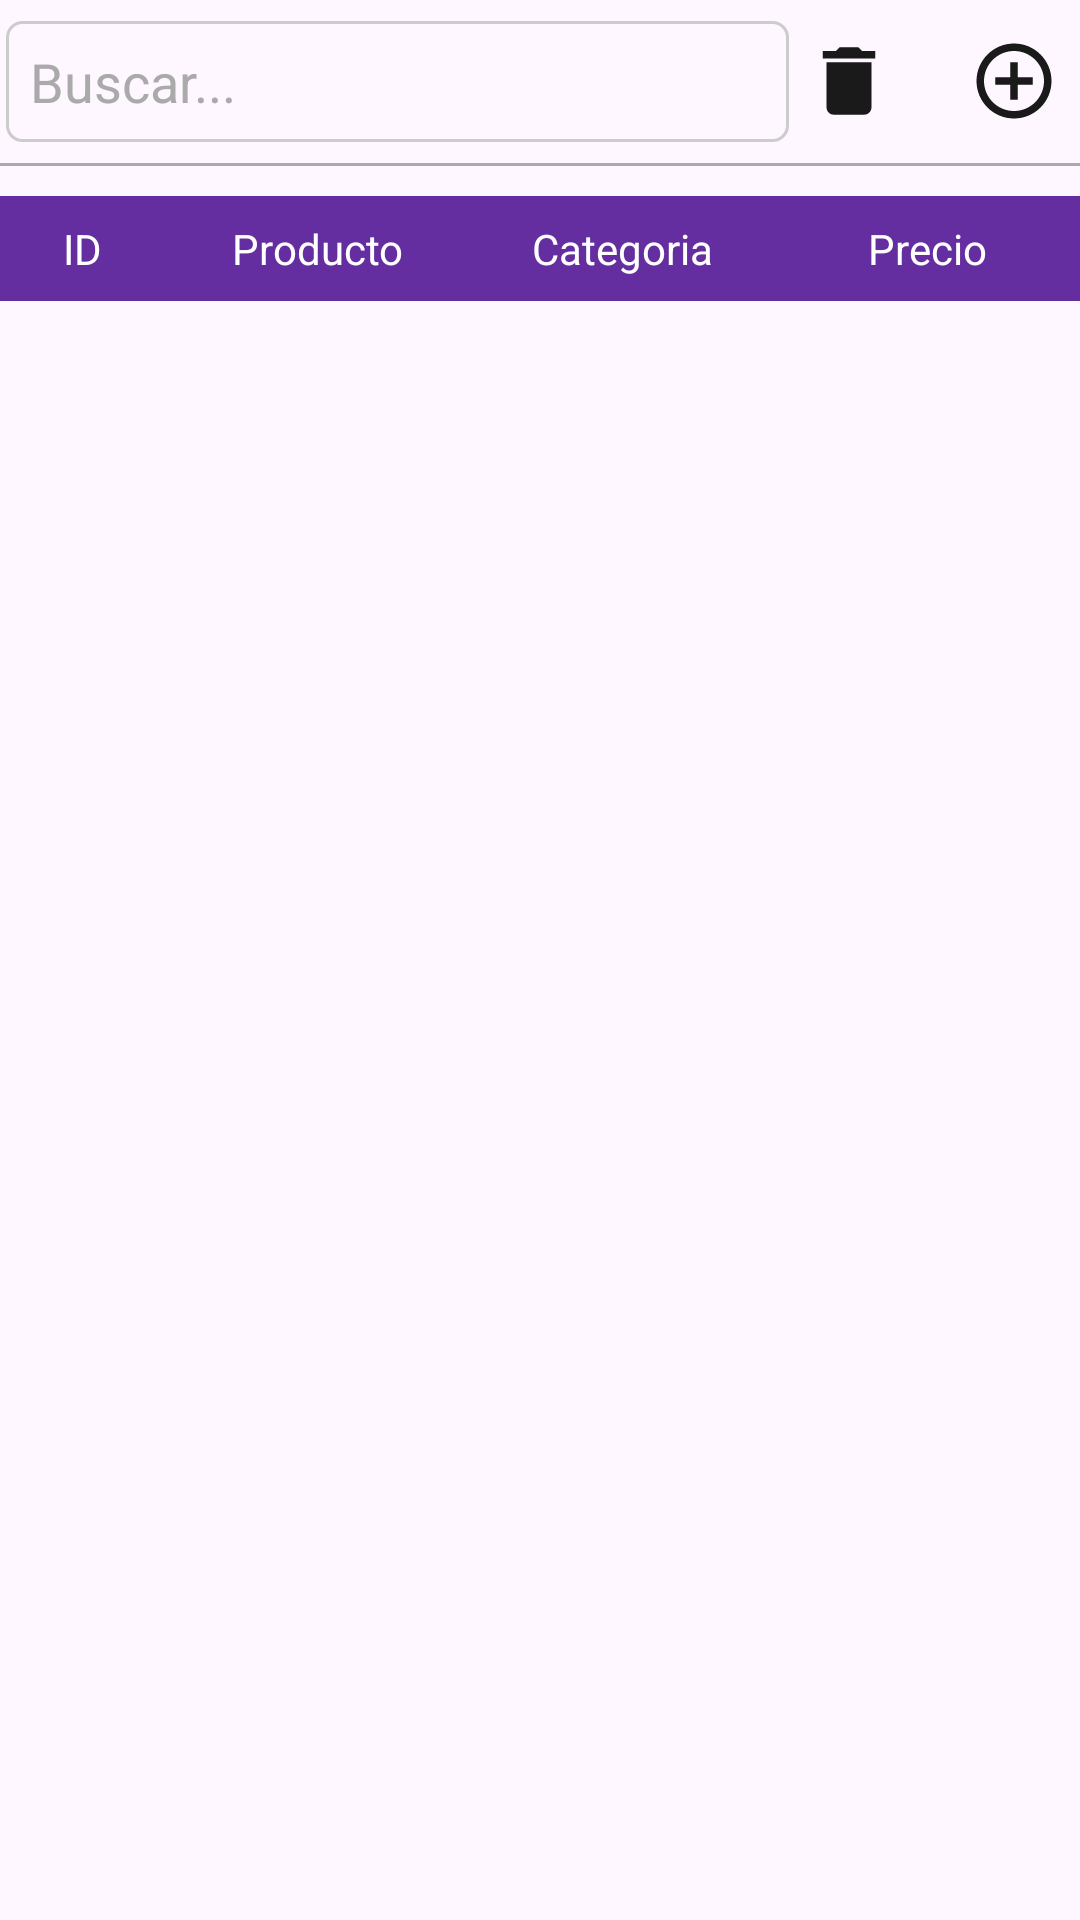

Icon click points for this 1080×1920 phone screenshot, format point (x, y):
delete: point (849, 81)
